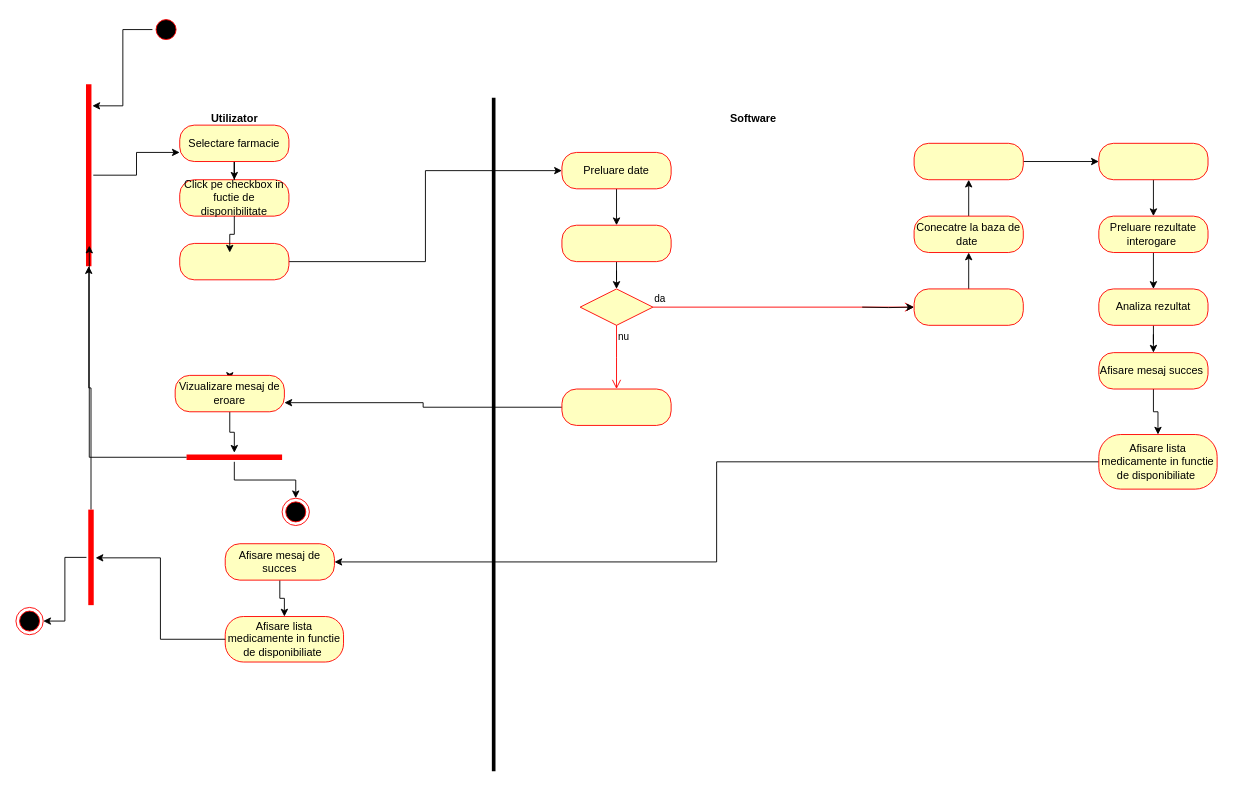
This 1233x789 diagram has some shape labels left out. Each missing label, with the centre of its shape:
"Afiseaza mesaj de eroare" belongs at [616,406].
"Click buton filtrare disponibilitate" belongs at [234,261].
"Creare interogare" belongs at [968,306].
"Deconectare de la baza de date" belongs at [1153,161].
"Executarea interogarii" belongs at [968,161].
"Validare date" belongs at [616,243].
